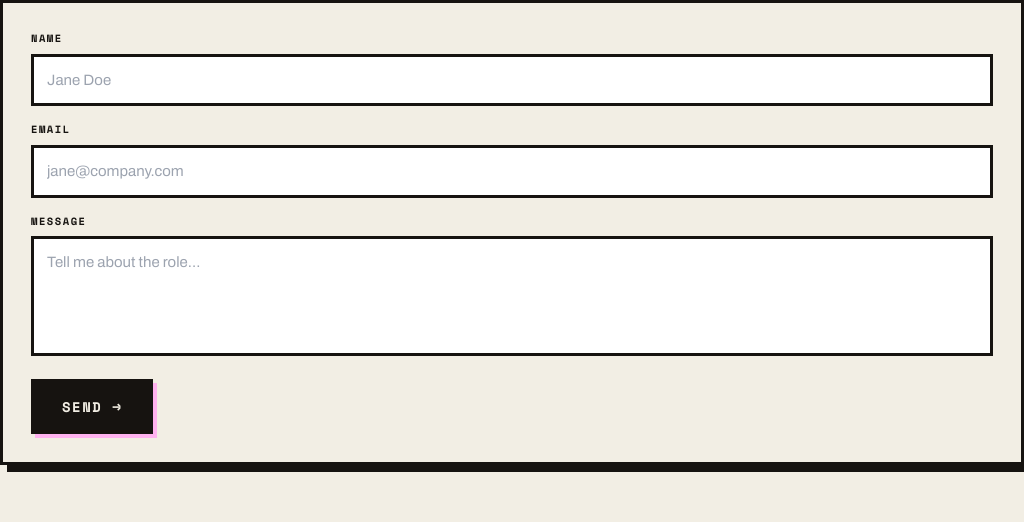
Test case: ContactForm › shows error message on failed fetch
The image size is (1024, 522).
Type "A" into the field with placeholder "Jane Doe".
click(512, 80); type("A")  # box top-left (31, 54), bottom-right (993, 106)
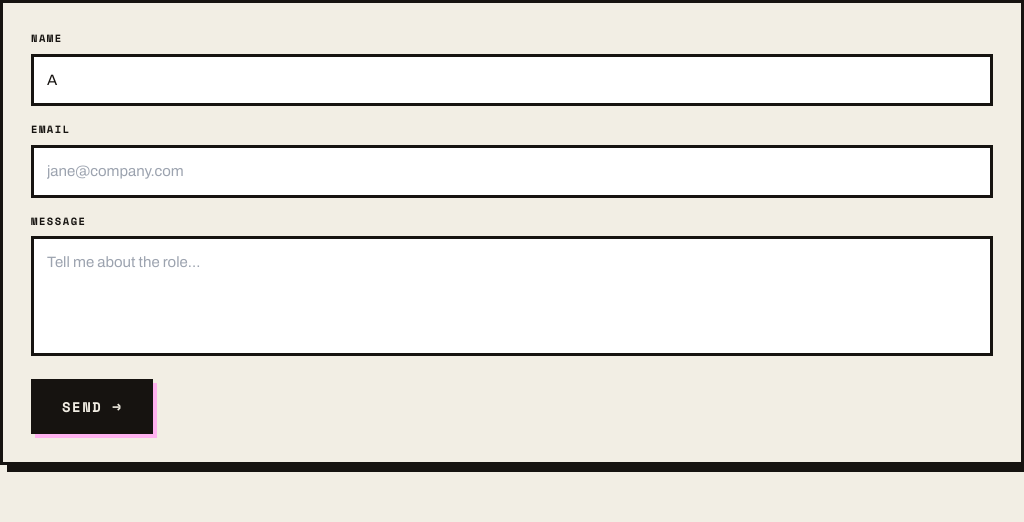
Type "a@b.com" into the field with placeholder "jane@company.com".
click(512, 171); type("a@b.com")  # box top-left (31, 145), bottom-right (993, 198)
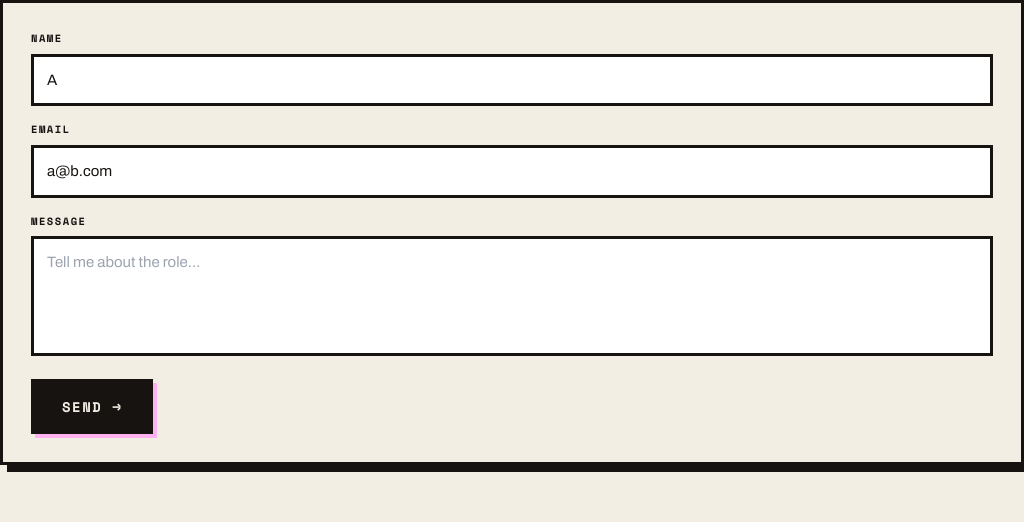
Type "Hi" into the text box with placeholder "Tell me about the role…".
click(512, 296); type("Hi")  # box top-left (31, 236), bottom-right (993, 356)
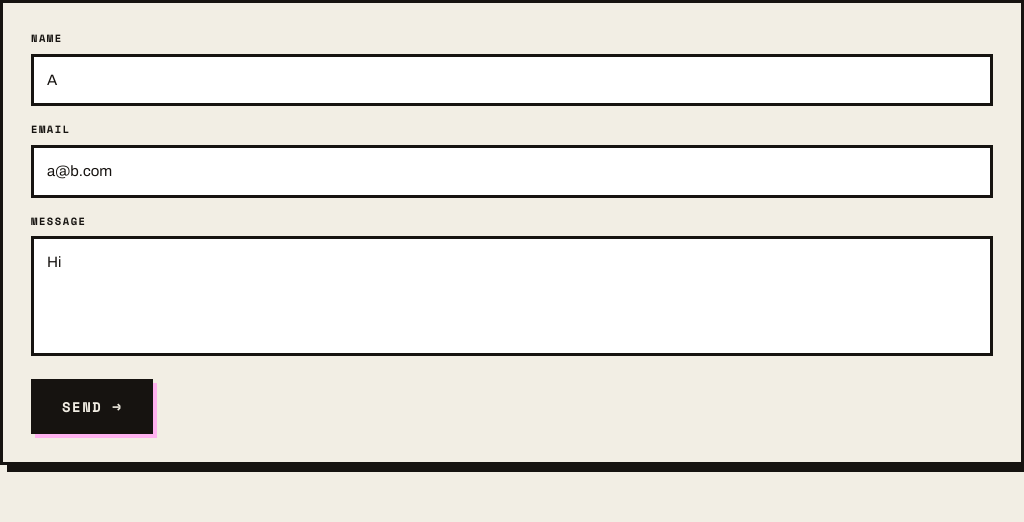
Click the button "SEND →".
click(92, 407)  # box top-left (31, 379), bottom-right (153, 434)
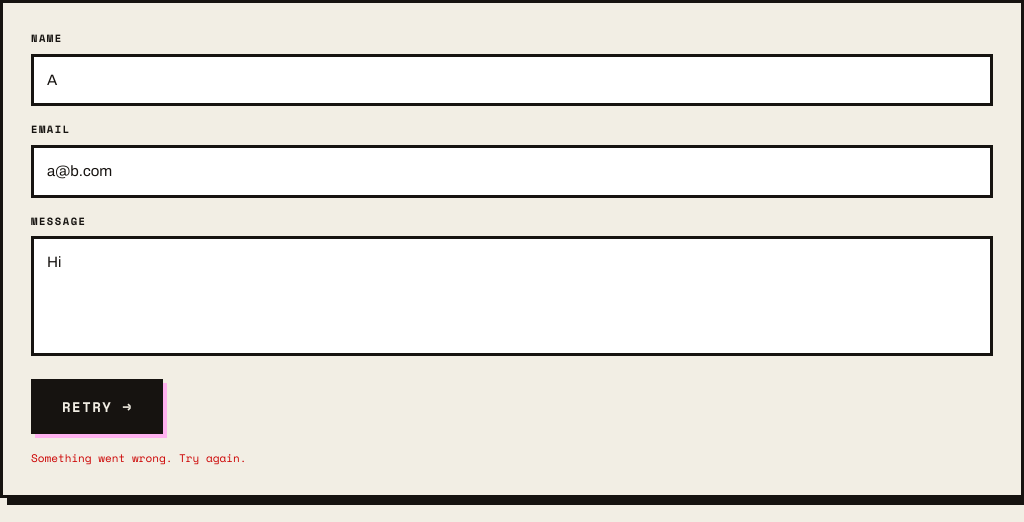
Result: the text "Something went wrong. Try again." is shown at top-left (31, 450), bottom-right (246, 466)
